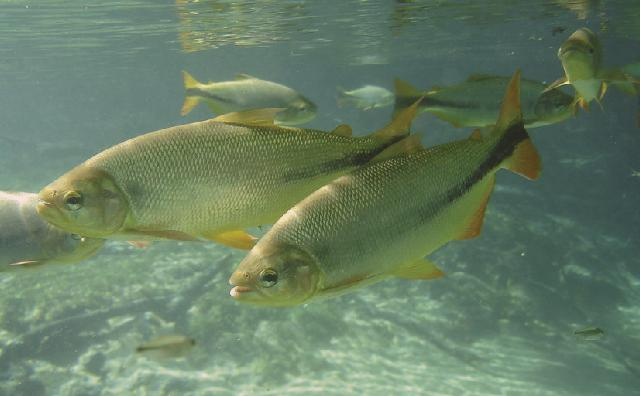Mulut: (214, 263, 270, 329), (23, 186, 52, 228)
Sirip Anal: (444, 168, 518, 254)
Sirip Dada: (116, 213, 210, 257), (311, 260, 387, 304)
Sirip Ekor: (481, 56, 562, 194)
Sirip Perut: (384, 246, 452, 290), (208, 216, 266, 252)
Sirip Punggung: (198, 89, 292, 146), (342, 120, 432, 174)
